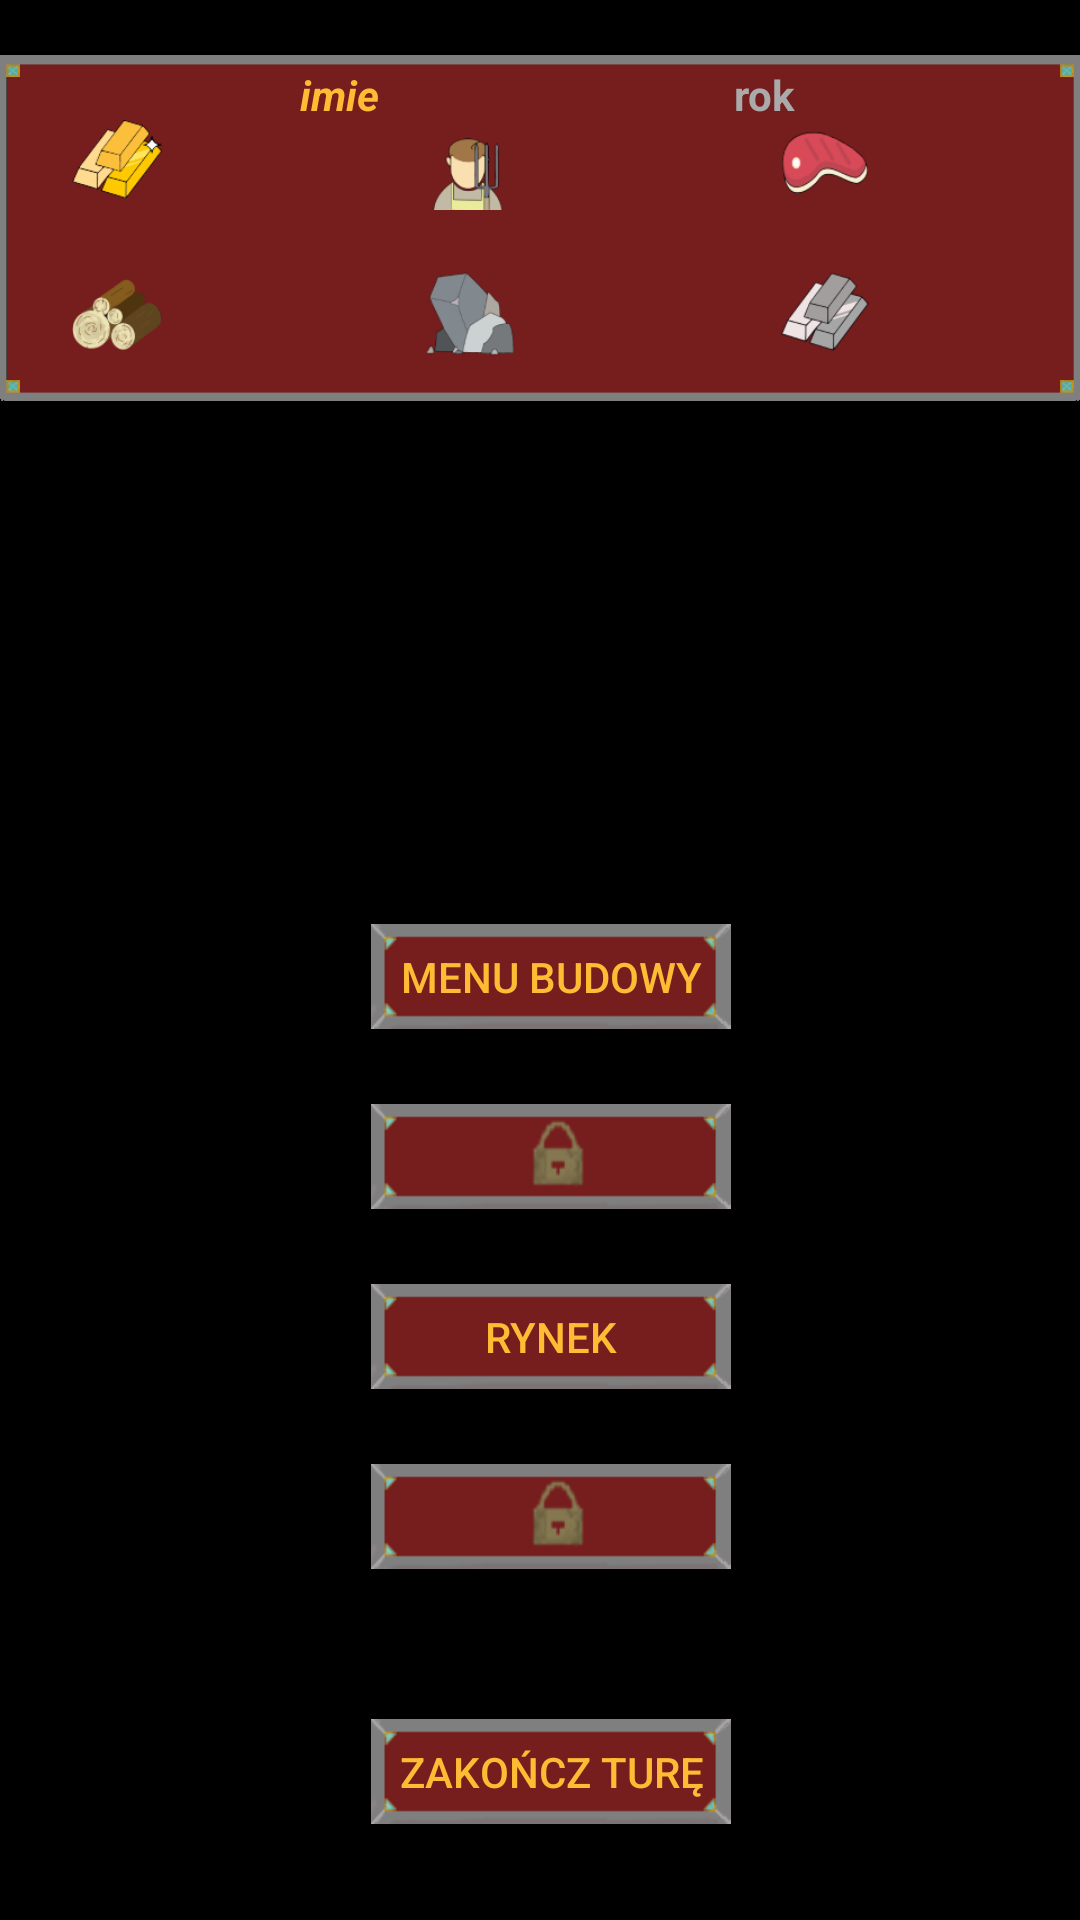

Point at icon controls on the screen. Image size 1080*1920, points as (x,y).
przycisk zablokowany: (551,1156), (551,1516)
